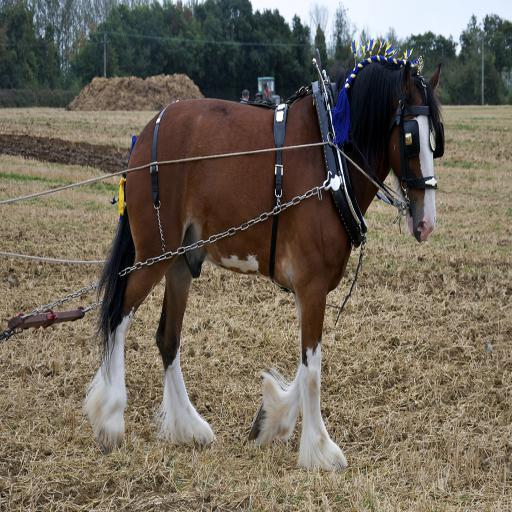horse: (80, 60, 444, 476)
